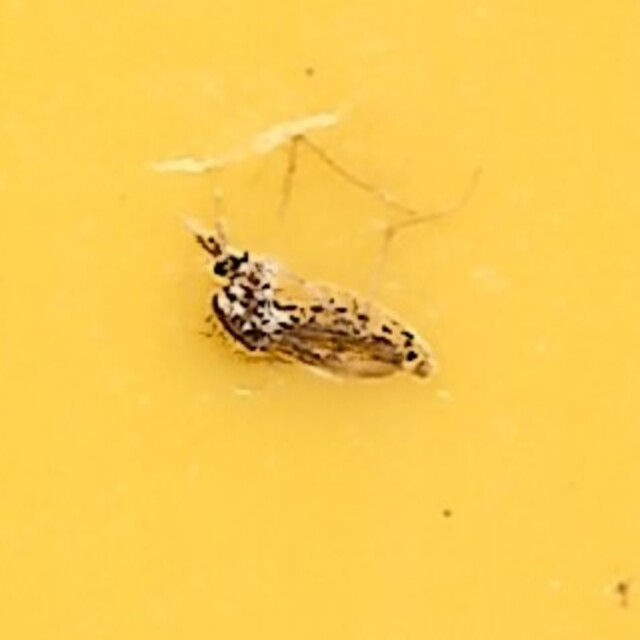Nematocera: (200, 241, 440, 399)
